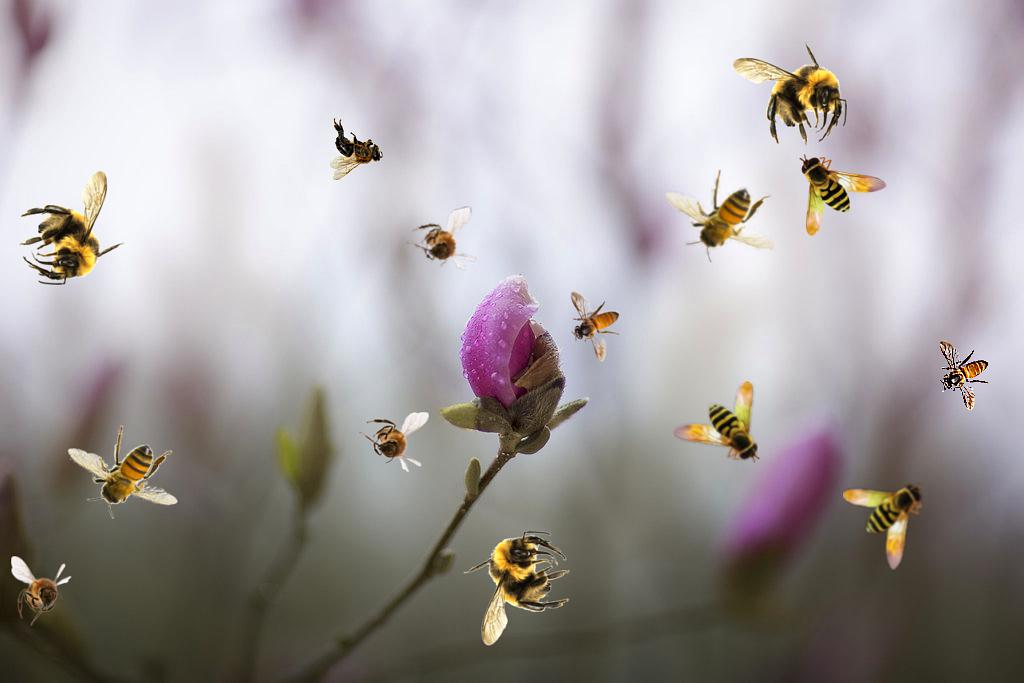Bee: (463, 531, 570, 646), (19, 170, 126, 285), (732, 39, 847, 146), (665, 169, 776, 263), (67, 425, 178, 519), (799, 154, 887, 236), (672, 381, 760, 463), (843, 482, 925, 570), (402, 205, 485, 283), (359, 412, 429, 473), (11, 556, 72, 626), (939, 340, 989, 411), (570, 291, 620, 362), (330, 118, 383, 180)
